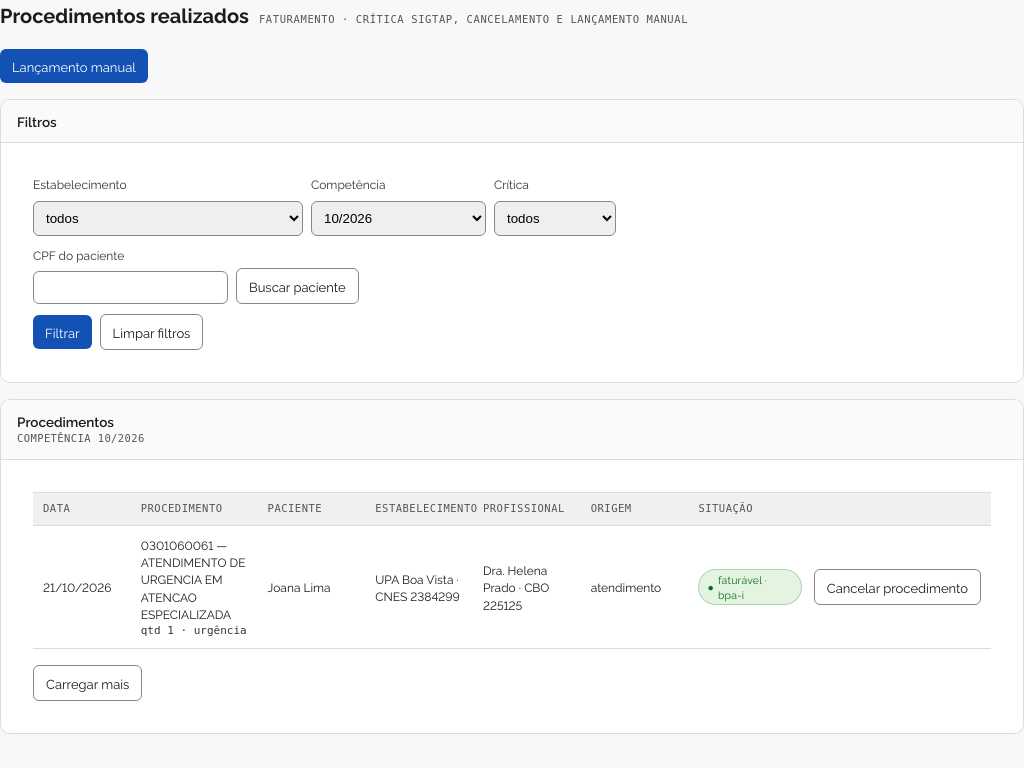
Scenario: BillingProcedures › Carregar mais usa o cursor e junta as páginas
This screenshot has width=1024, height=768.
Click the button "Carregar mais": coordinates (88, 684) [33,666,142,702]
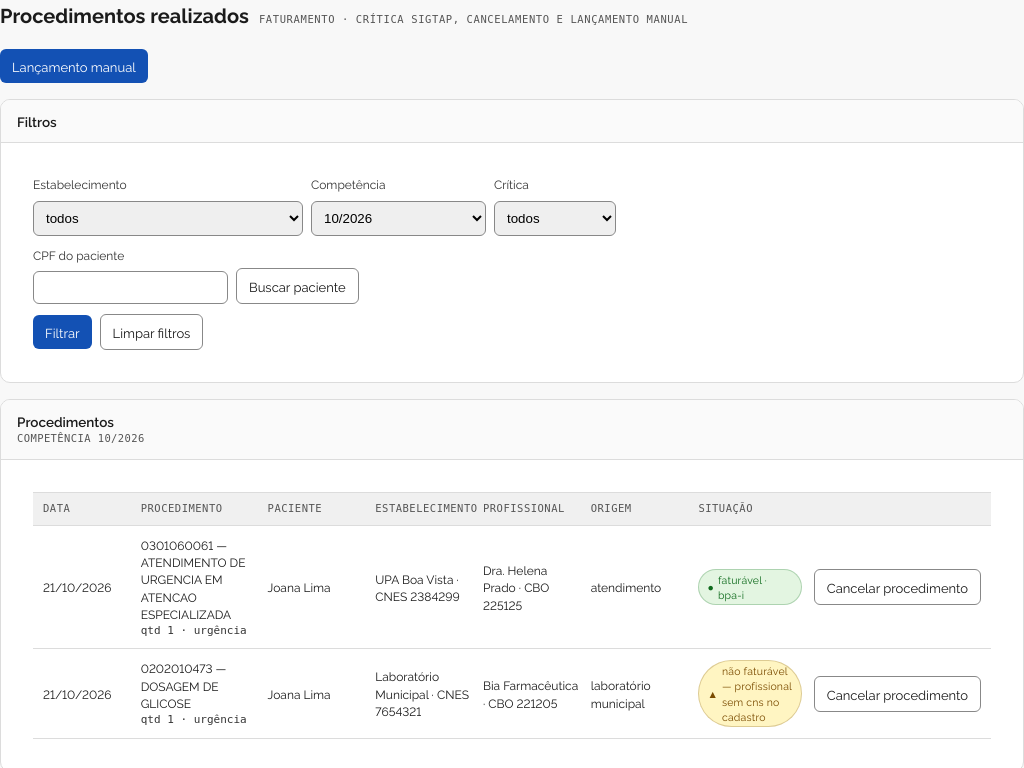
Expected: the text "0301060061 — ATENDIMENTO DE URGENCIA EM ATENCAO ESPECIALIZADA" is shown, [141,536,256,623]
Expected: the text "0202010473 — DOSAGEM DE GLICOSE" is shown, [141,660,226,711]
Expected: the button "Carregar mais" is gone
